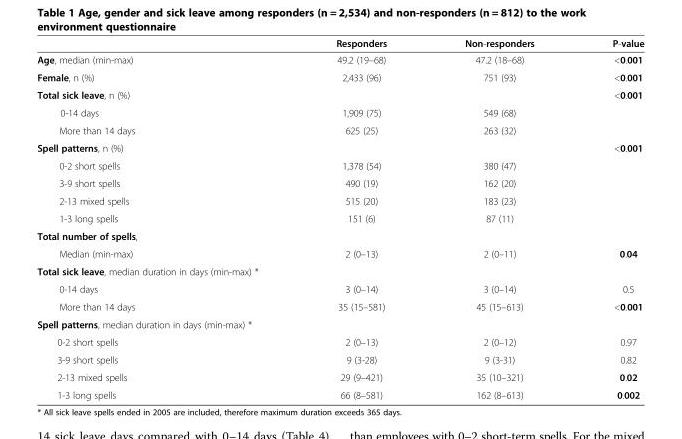table: (36, 37, 643, 400)
table column: (36, 37, 296, 400), (425, 37, 572, 400), (296, 37, 425, 400), (572, 37, 643, 400)
table column header: (36, 37, 643, 51)
table projected row header: (36, 226, 643, 244), (36, 262, 643, 279), (36, 315, 643, 332)
table row: (36, 85, 643, 103), (36, 103, 643, 121), (36, 138, 643, 156), (36, 156, 643, 174), (36, 191, 643, 209), (36, 226, 643, 244), (36, 244, 643, 262), (36, 279, 643, 297), (36, 297, 643, 315), (36, 332, 643, 350), (36, 350, 643, 368), (36, 51, 643, 68), (36, 68, 643, 85), (36, 121, 643, 138), (36, 174, 643, 191), (36, 209, 643, 226), (36, 262, 643, 279), (36, 315, 643, 332), (36, 368, 643, 385), (36, 385, 643, 400), (36, 37, 643, 51)
